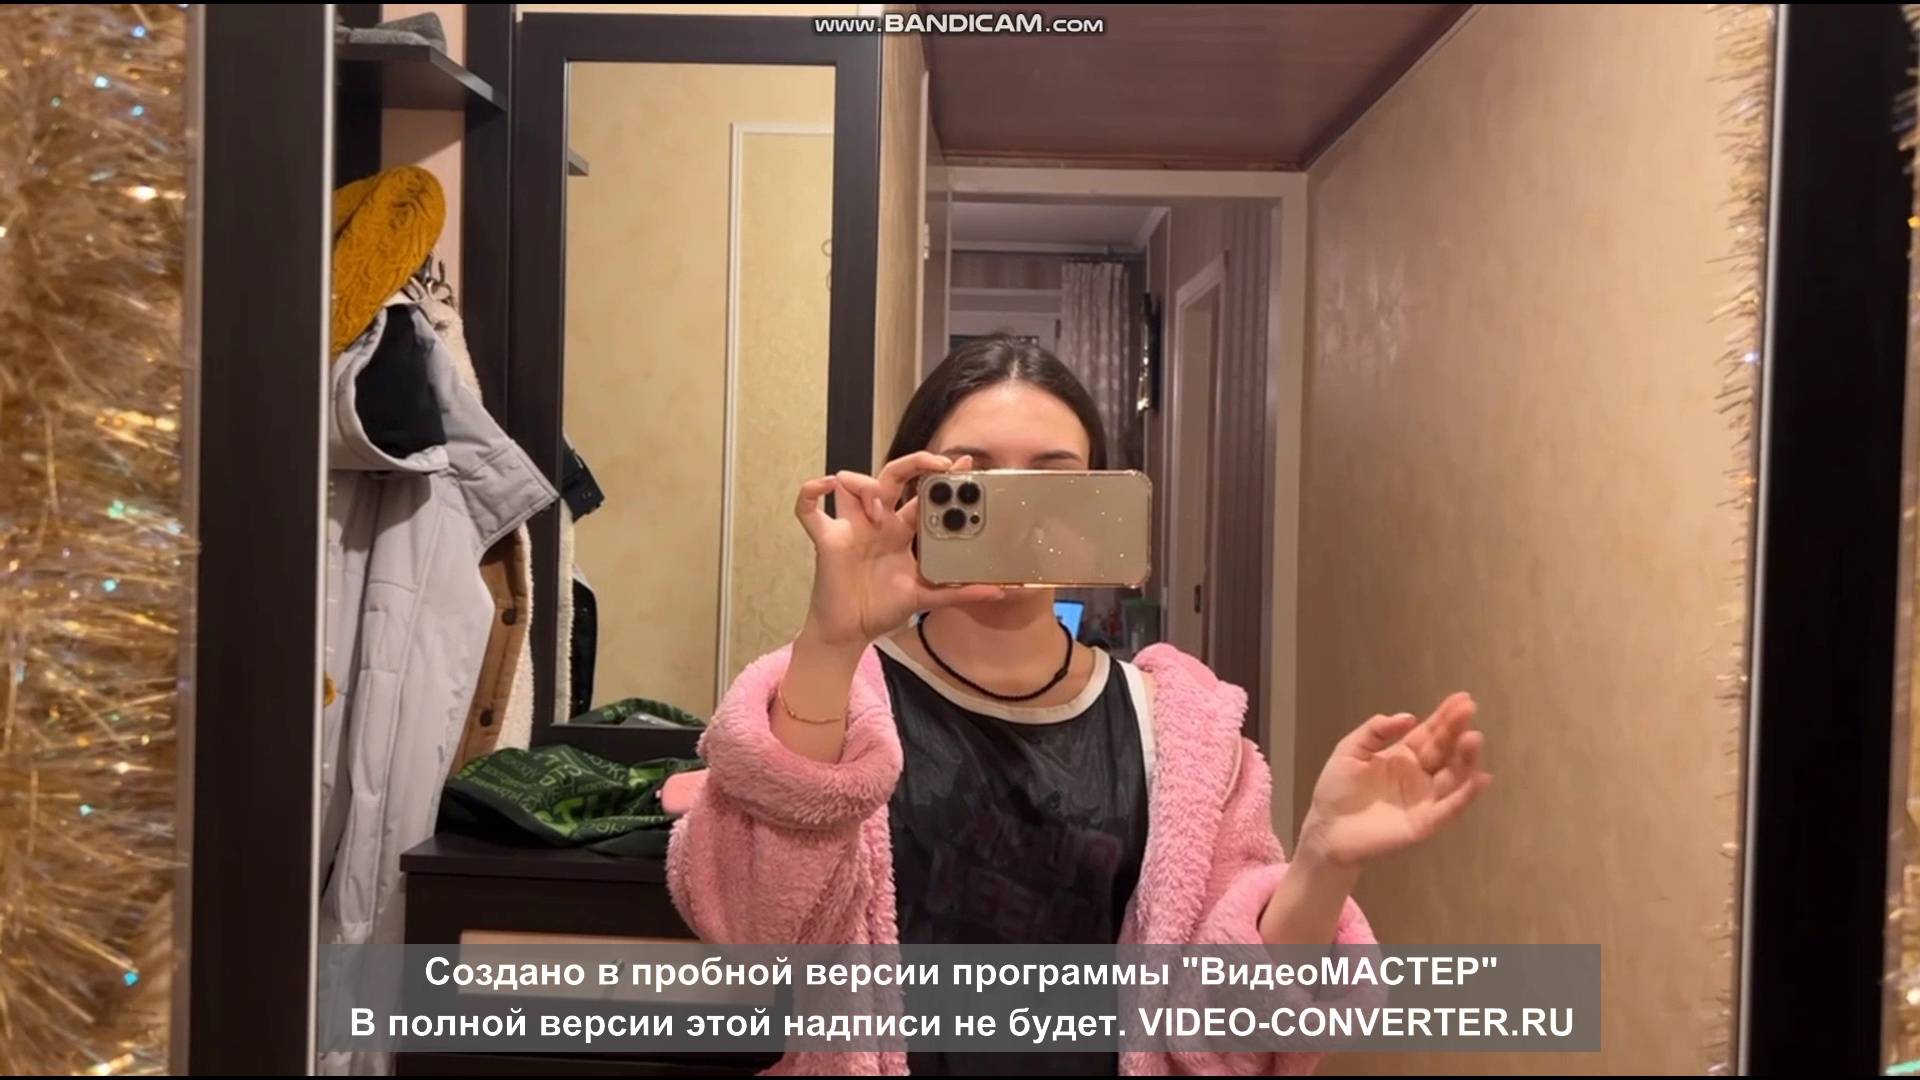Ладонь: (1309, 687, 1493, 872)
